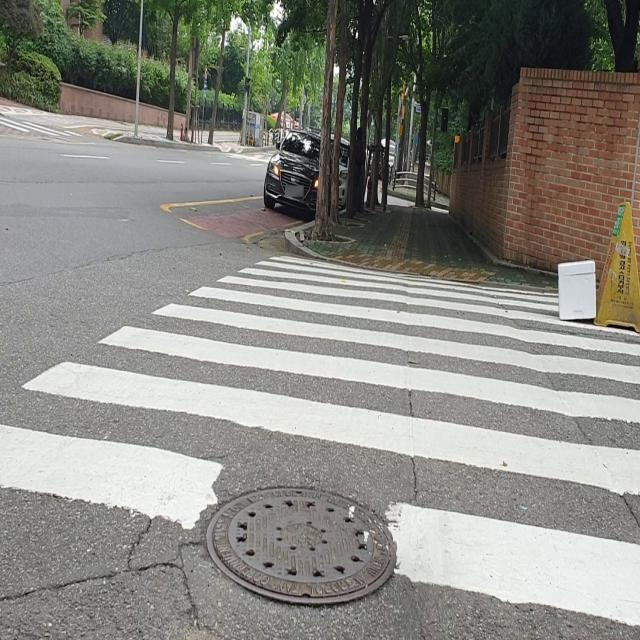횡단보도: (0, 253, 640, 631)
